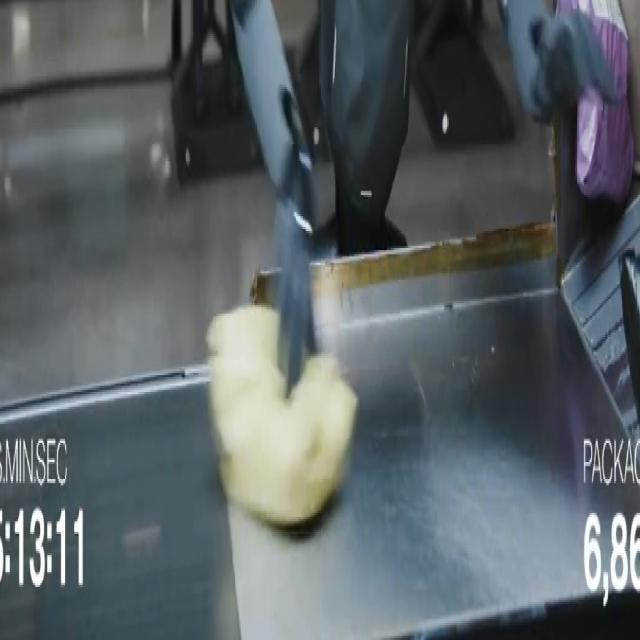package: (207, 307, 358, 523), (558, 0, 634, 203), (619, 248, 639, 422), (620, 0, 639, 175)
